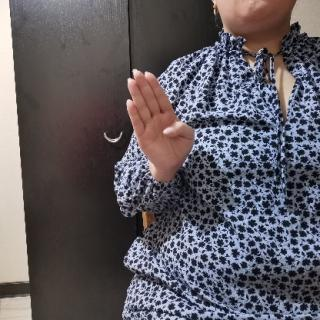KAAF: (120, 68, 197, 186)
